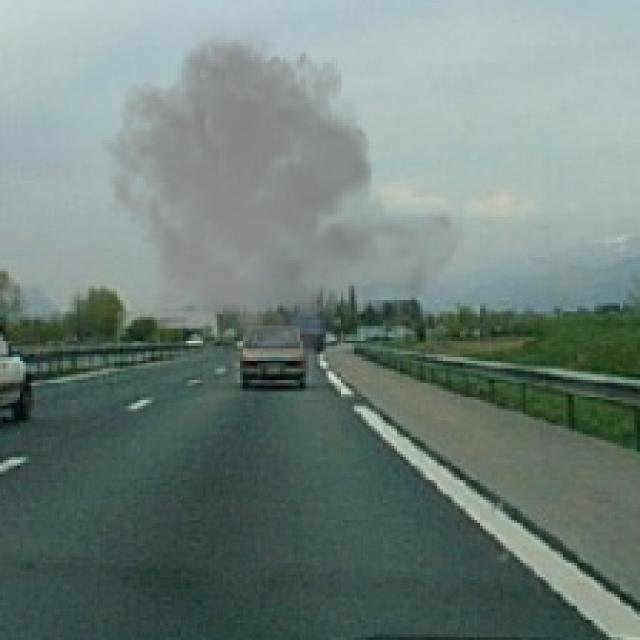smoke: (100, 14, 469, 372)
